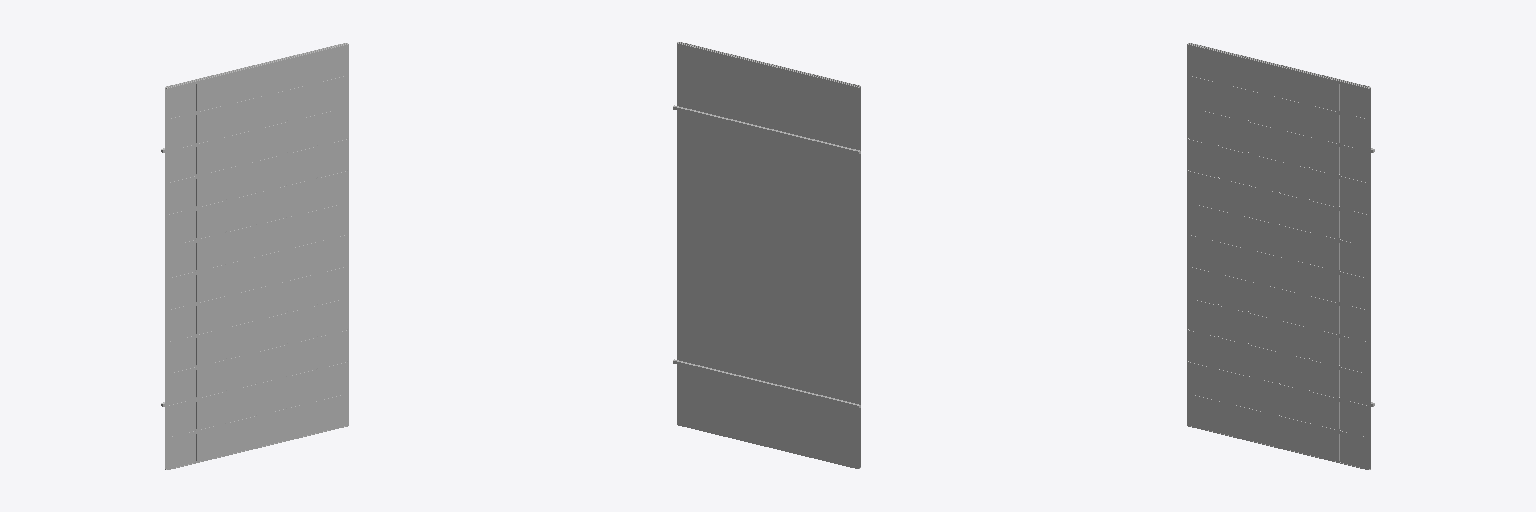
Rendered from solars.obj.
3 renders of one model, left to right at view 1: azimuth 30°, elevation 25°; view 2: azimuth 150°, elevation 25°; view 3: azimuth 330°, elevation 25°, orthographic.
Visible parts, largest first — view 1: obj1; view 2: obj1; view 3: obj1.
Boxes of the visible parts, x1,y1,x2,y2 form: obj1: [161, 43, 348, 469]; obj1: [673, 42, 860, 468]; obj1: [1187, 43, 1374, 469].
Size of the model in its own units: 1.02 by 2 by 0.037.